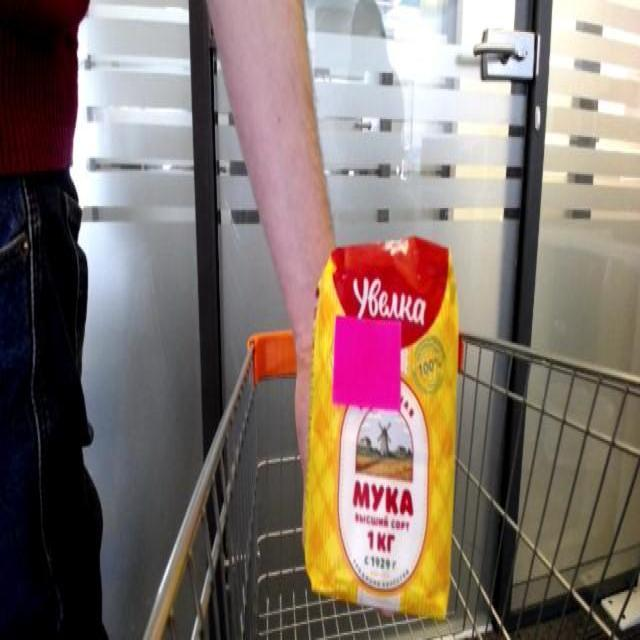Almond Milk: (296, 228, 466, 628)
